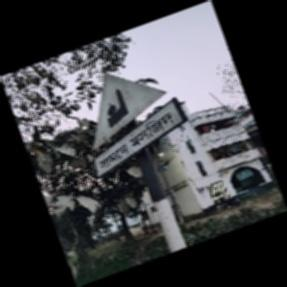Mosque in front: (92, 73, 186, 178)
